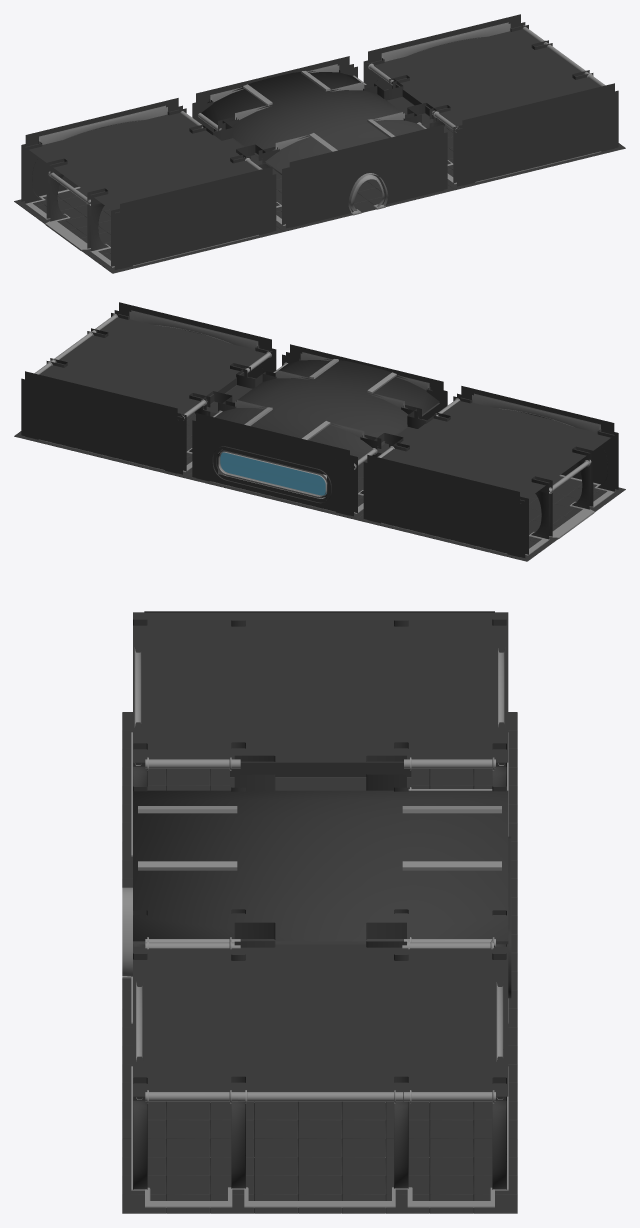
The model's file is SM_StorageRoom_A.fbx.
3 views of the same model, one above another, from view 1: azimuth 30°, elevation 25°; view 2: azimuth 150°, elevation 25°; view 3: azimuth 270°, elevation 25° (orthographic). The views are drawn at different scales.
Parts seen in each view (by area): view 1: SM_StorageRoom_A; view 2: SM_StorageRoom_A; view 3: SM_StorageRoom_A.
Part boxes in pixels (left/top/right/bottom): SM_StorageRoom_A: left=14, top=14, right=625, bottom=273; SM_StorageRoom_A: left=14, top=302, right=625, bottom=561; SM_StorageRoom_A: left=122, top=611, right=517, bottom=1213.
Size of what is drawn, in the model's own units: 5400 by 682 by 1800.
